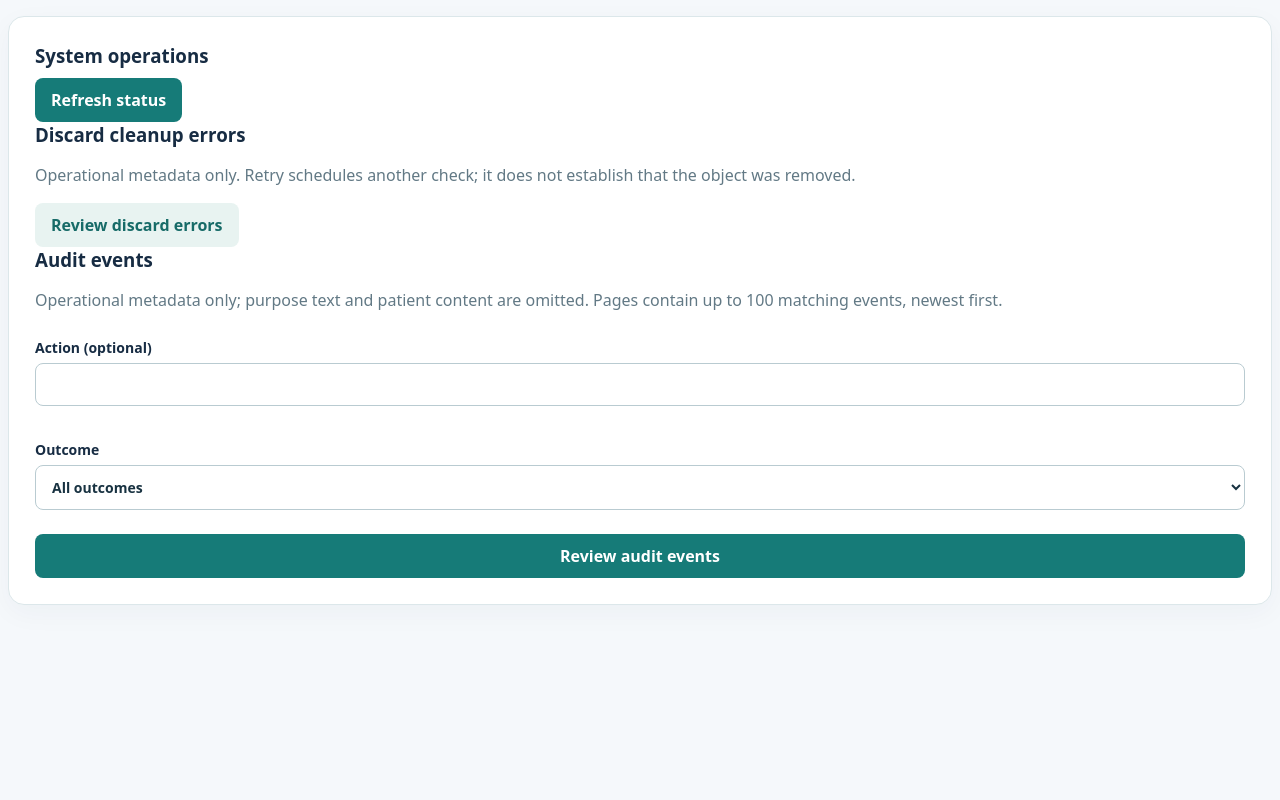
Test: pages older audit events using the submitted filters
Type "synthetic_event" into the field labelled "Action (optional)" at (640, 384), box [35, 363, 1245, 406]
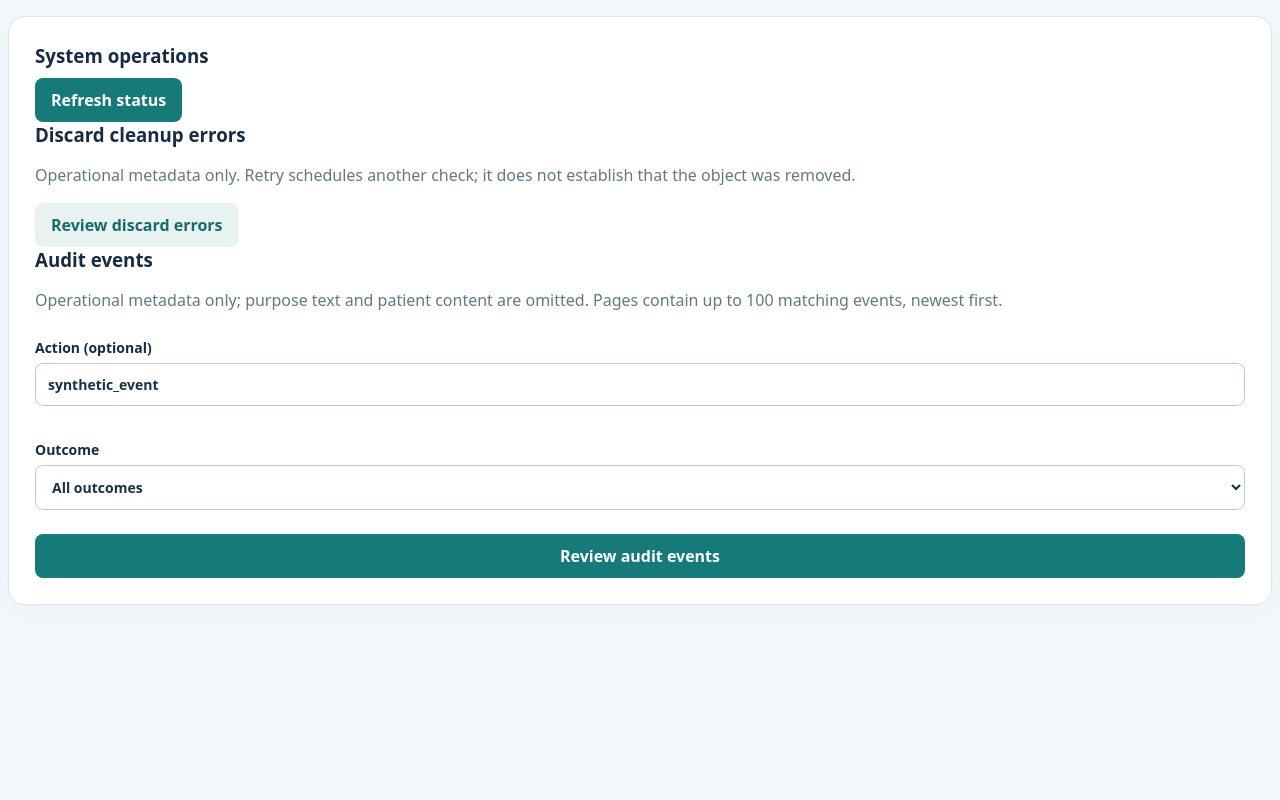
Select "Success" in the dropdown labelled "Outcome" at (640, 488), box [35, 465, 1245, 510]
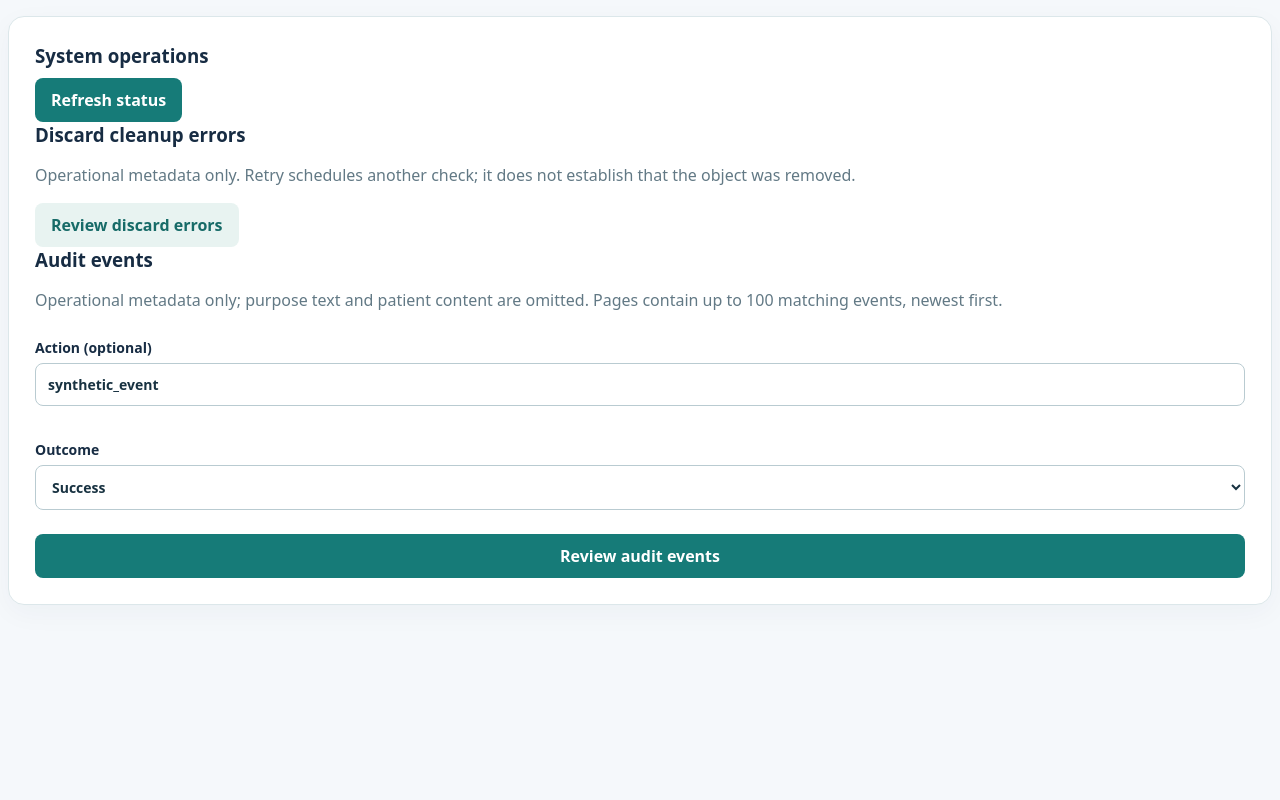
Click the button "Review audit events" at (640, 556), box [35, 534, 1245, 578]
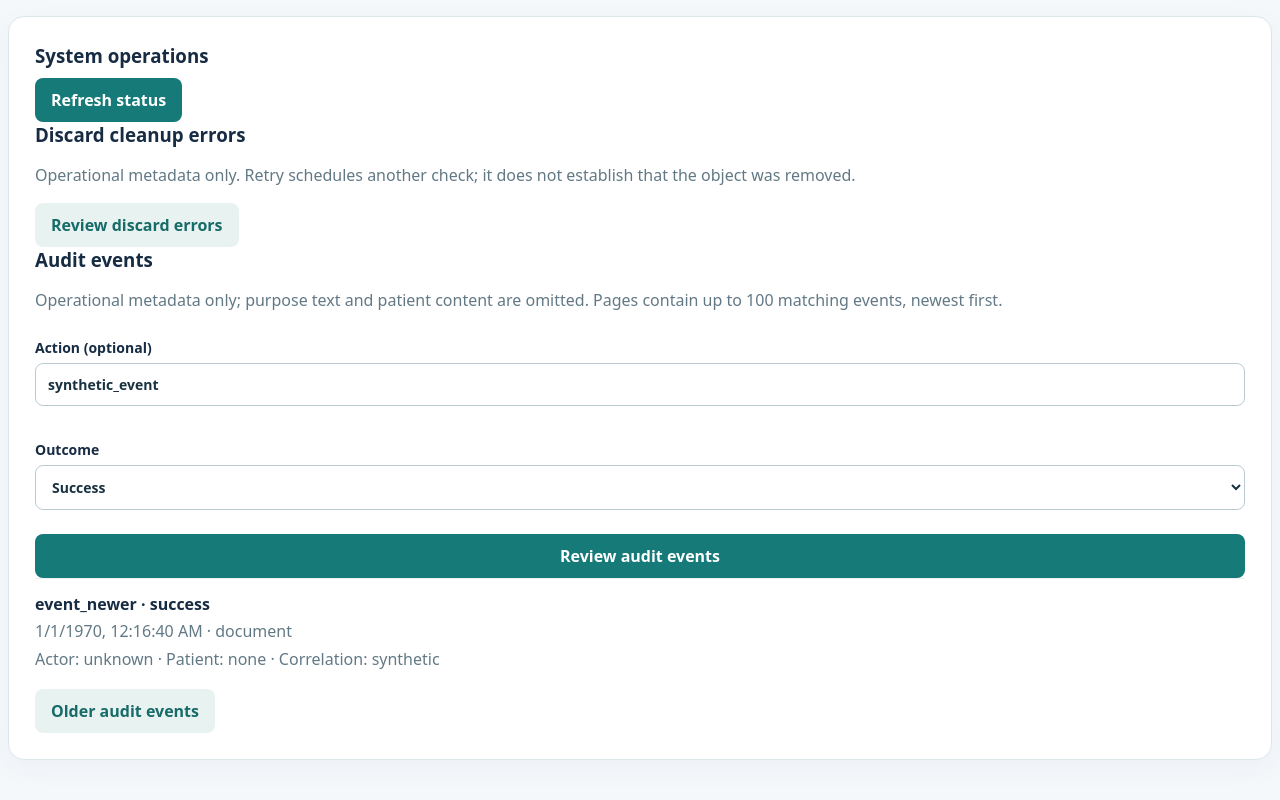
Expected: the text "event_newer · success" is shown, [35, 593, 210, 615]
Replace the text in the field labelled "Action (optional)" with "changed" at (640, 384), box [35, 363, 1245, 406]
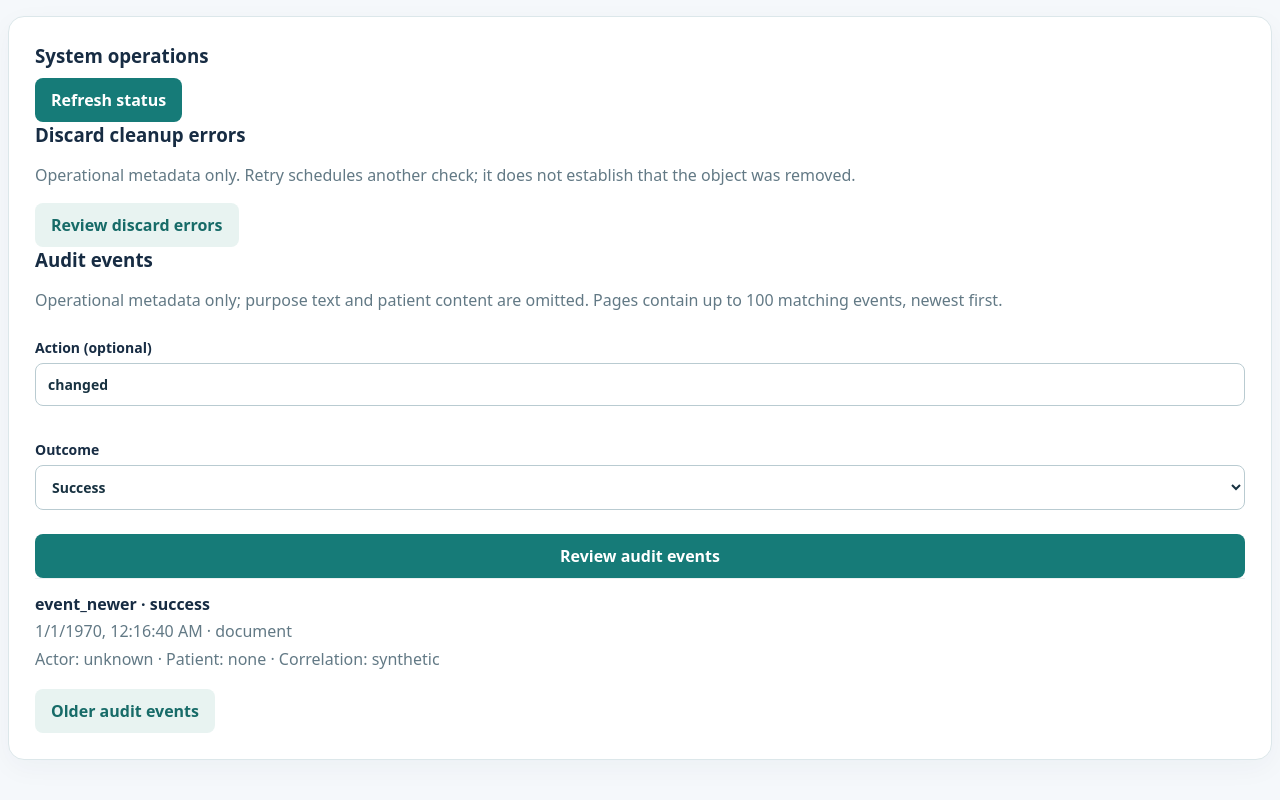
Click the button "Older audit events" at (125, 711), box [35, 689, 215, 733]
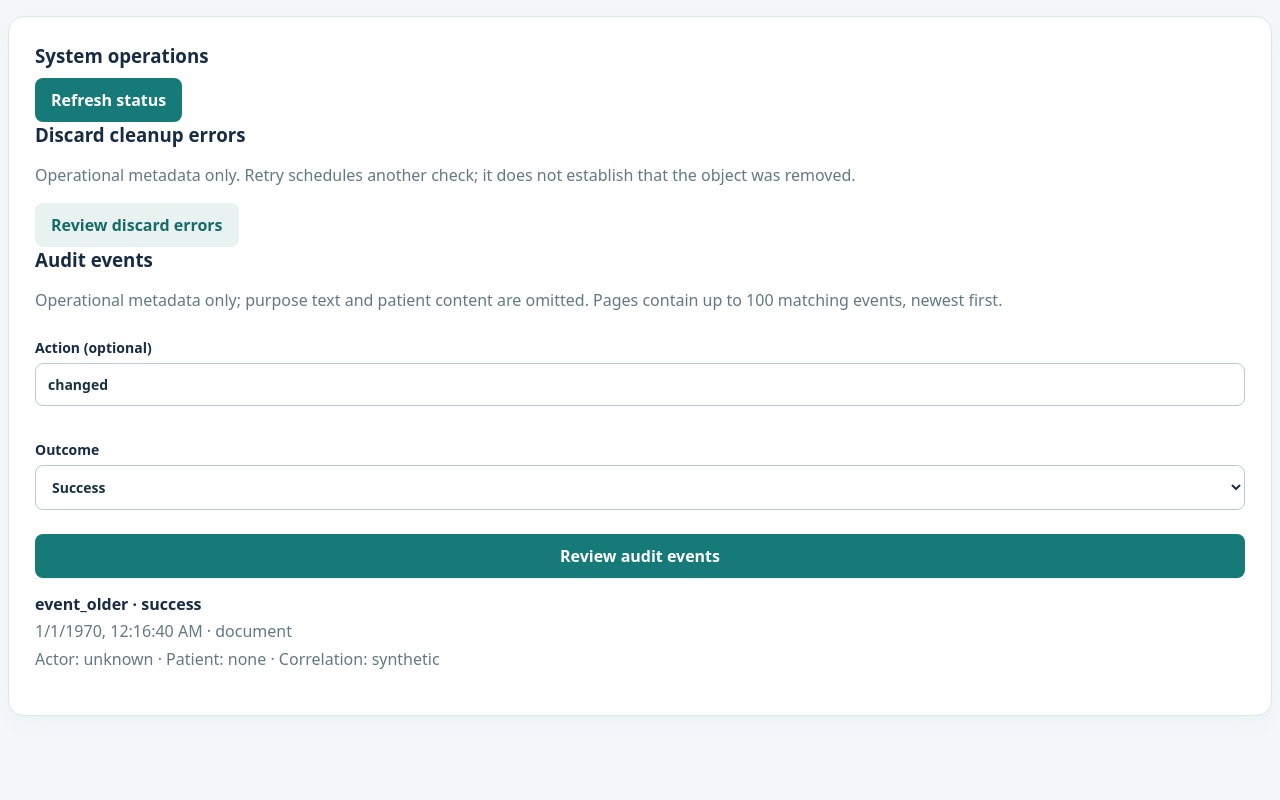
Expected: the text "event_older · success" is shown, [35, 593, 202, 615]
Expected: the text "event_newer · success" is gone
Expected: the button "Older audit events" is gone
